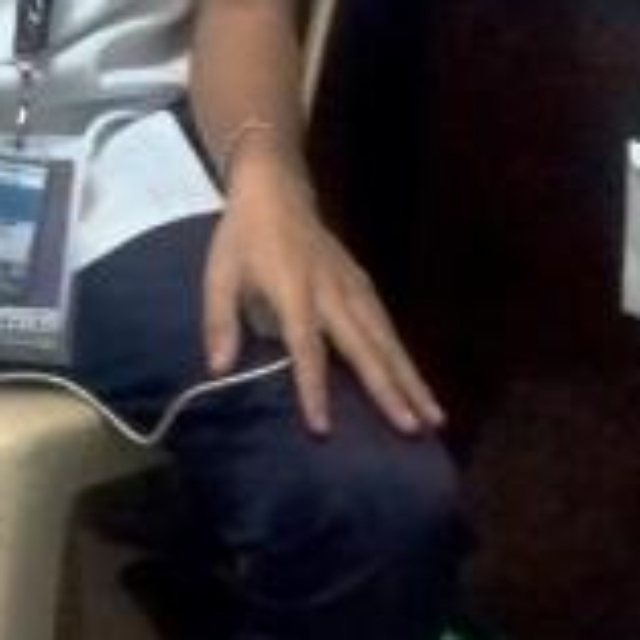thumbs_up: (188, 187, 452, 453)
